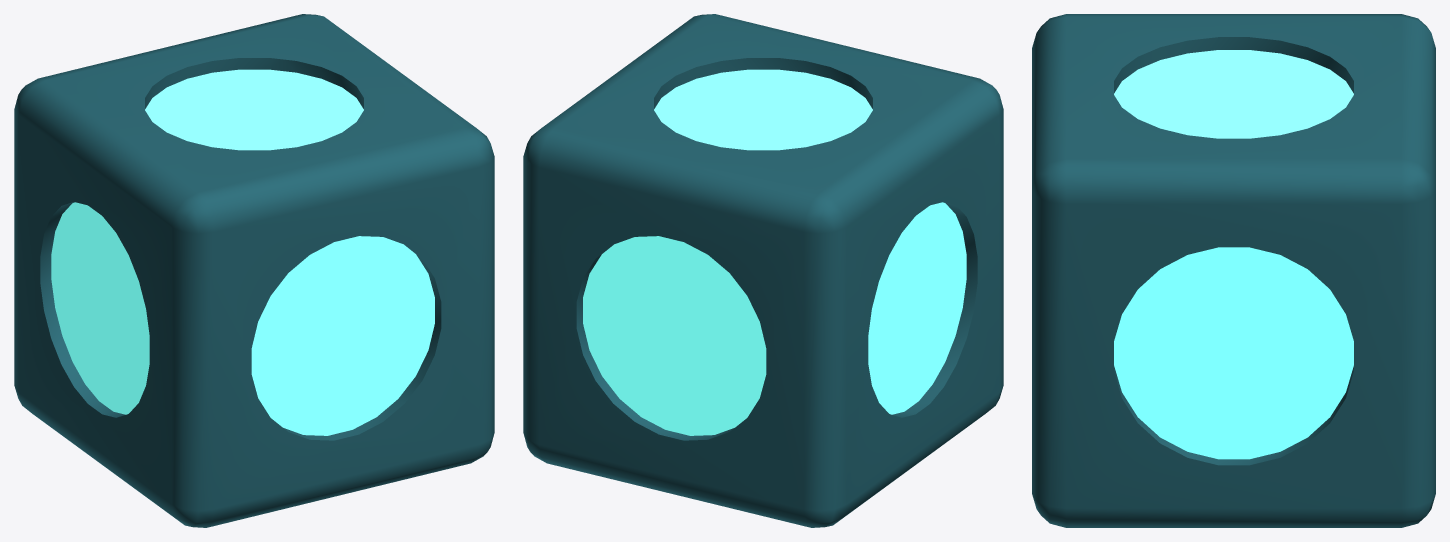
File: Core.fbx
3 renders of one model, left to right at view 1: azimuth 30°, elevation 25°; view 2: azimuth 150°, elevation 25°; view 3: azimuth 270°, elevation 25°, orthographic. The views are drawn at different scales.
Visible parts, largest first — view 1: Core_LOD0; view 2: Core_LOD0; view 3: Core_LOD0.
Part boxes in pixels (x1,y1,x2,y2): Core_LOD0: [14, 14, 494, 527]; Core_LOD0: [523, 14, 1003, 527]; Core_LOD0: [1032, 14, 1435, 527].
Size of what is drawn, in the model's own units: 0.0873 by 0.0873 by 0.0873.
